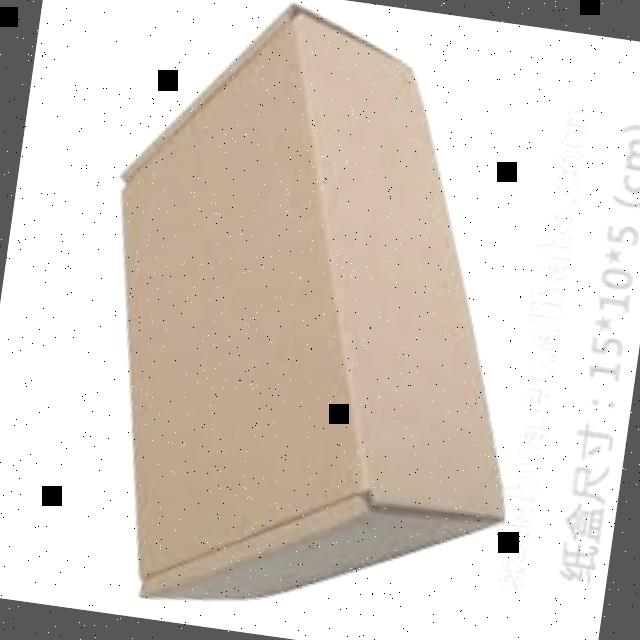cardboard_box: (62, 0, 570, 640)
